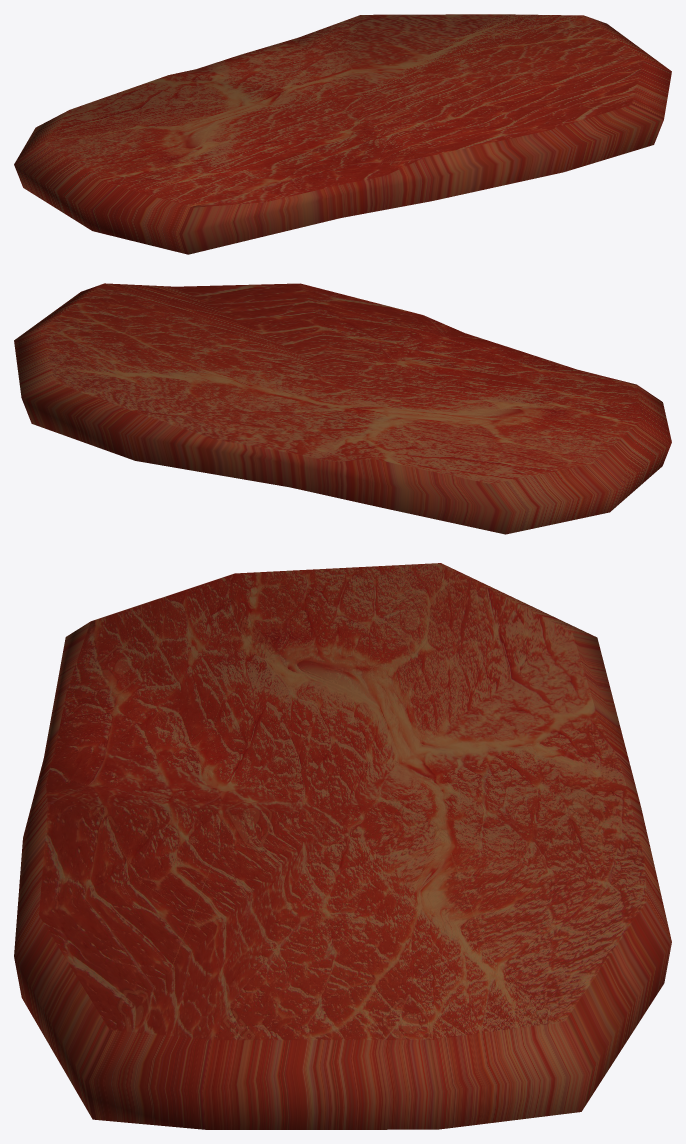
Rendered from niku.FBX.
3 views of the same model, one above another, from view 1: azimuth 30°, elevation 25°; view 2: azimuth 150°, elevation 25°; view 3: azimuth 270°, elevation 25° (orthographic). The views are drawn at different scales.
Parts seen in each view (by area): view 1: Plane001; view 2: Plane001; view 3: Plane001.
Part boxes in pixels (x1=…): Plane001: x1=14, y1=14, x2=671, y2=254; Plane001: x1=14, y1=283, x2=671, y2=534; Plane001: x1=14, y1=563, x2=671, y2=1129.
Bounding box in the file's own units: 93.09 × 8.49 × 49.61.
Materials: 1 (1 with a texture image).
